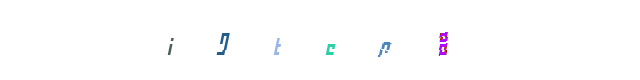8: (403, 0, 483, 80)
9: (260, 0, 340, 80)
E: (299, 0, 379, 80)
I: (171, 0, 251, 80)
P: (403, 0, 483, 80)
T: (279, 0, 359, 80)
